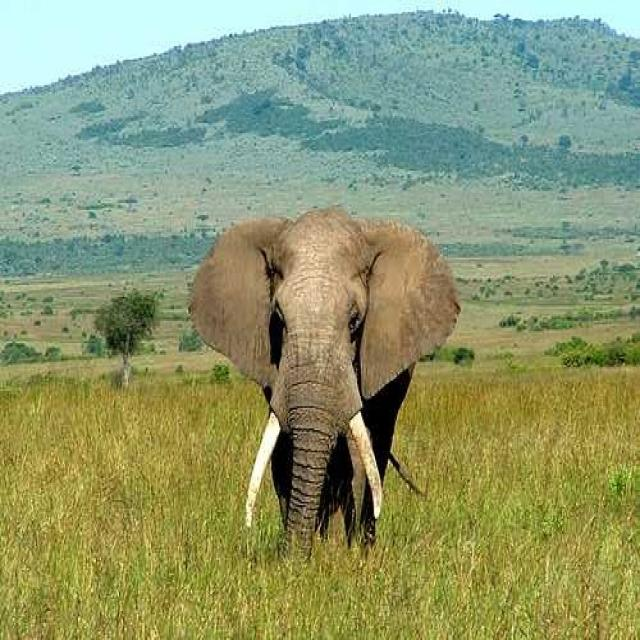Elephant: (187, 207, 461, 563)
